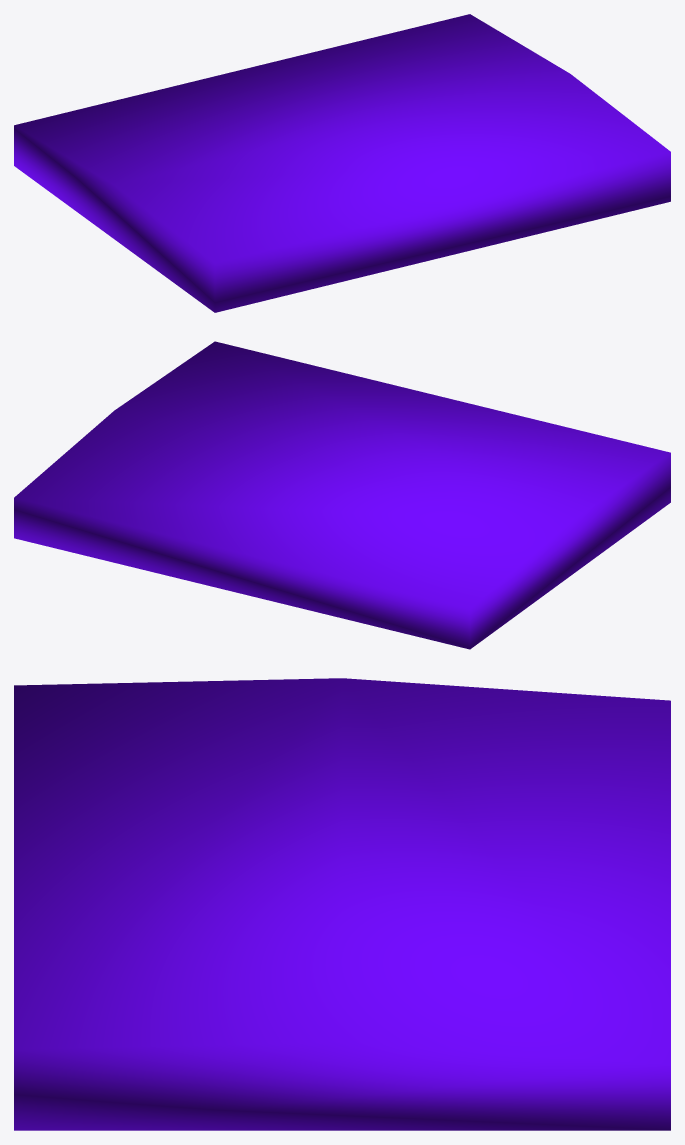
Rendered from hospital_staff_folder_1_meshCollider.fbx.
3 views of the same model, one above another, from view 1: azimuth 30°, elevation 25°; view 2: azimuth 150°, elevation 25°; view 3: azimuth 270°, elevation 25° (orthographic). The views are drawn at different scales.
Parts seen in each view (by area): view 1: hospital_staff_folder_1_meshCollider; view 2: hospital_staff_folder_1_meshCollider; view 3: hospital_staff_folder_1_meshCollider.
Boxes of the visible parts, x1,y1,x2,y2 form: hospital_staff_folder_1_meshCollider: (14,14,670,312); hospital_staff_folder_1_meshCollider: (14,341,670,649); hospital_staff_folder_1_meshCollider: (14,678,670,1130).
Size of the model in its own units: 22.14 by 2.52 by 16.89.
